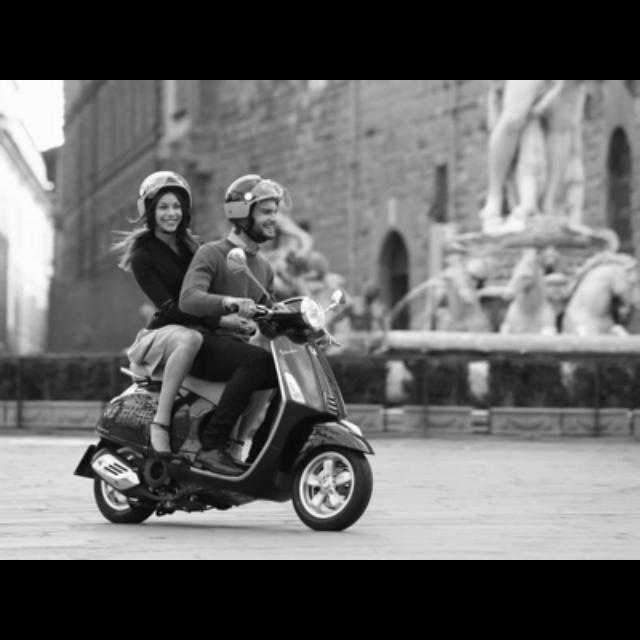With Helmet: (222, 170, 292, 244), (137, 171, 190, 235)
